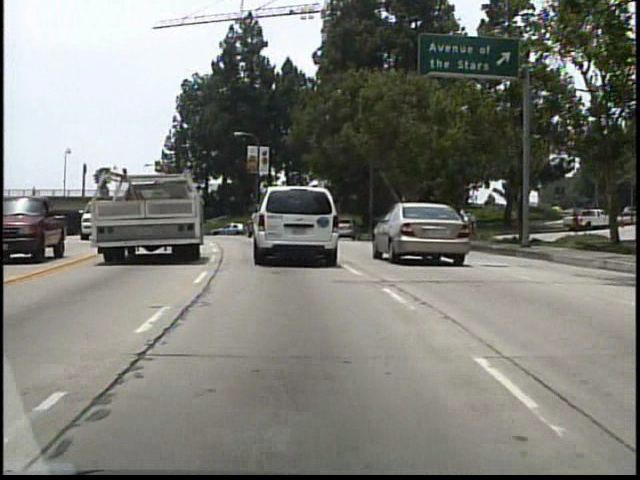person: (28, 183, 39, 203)
